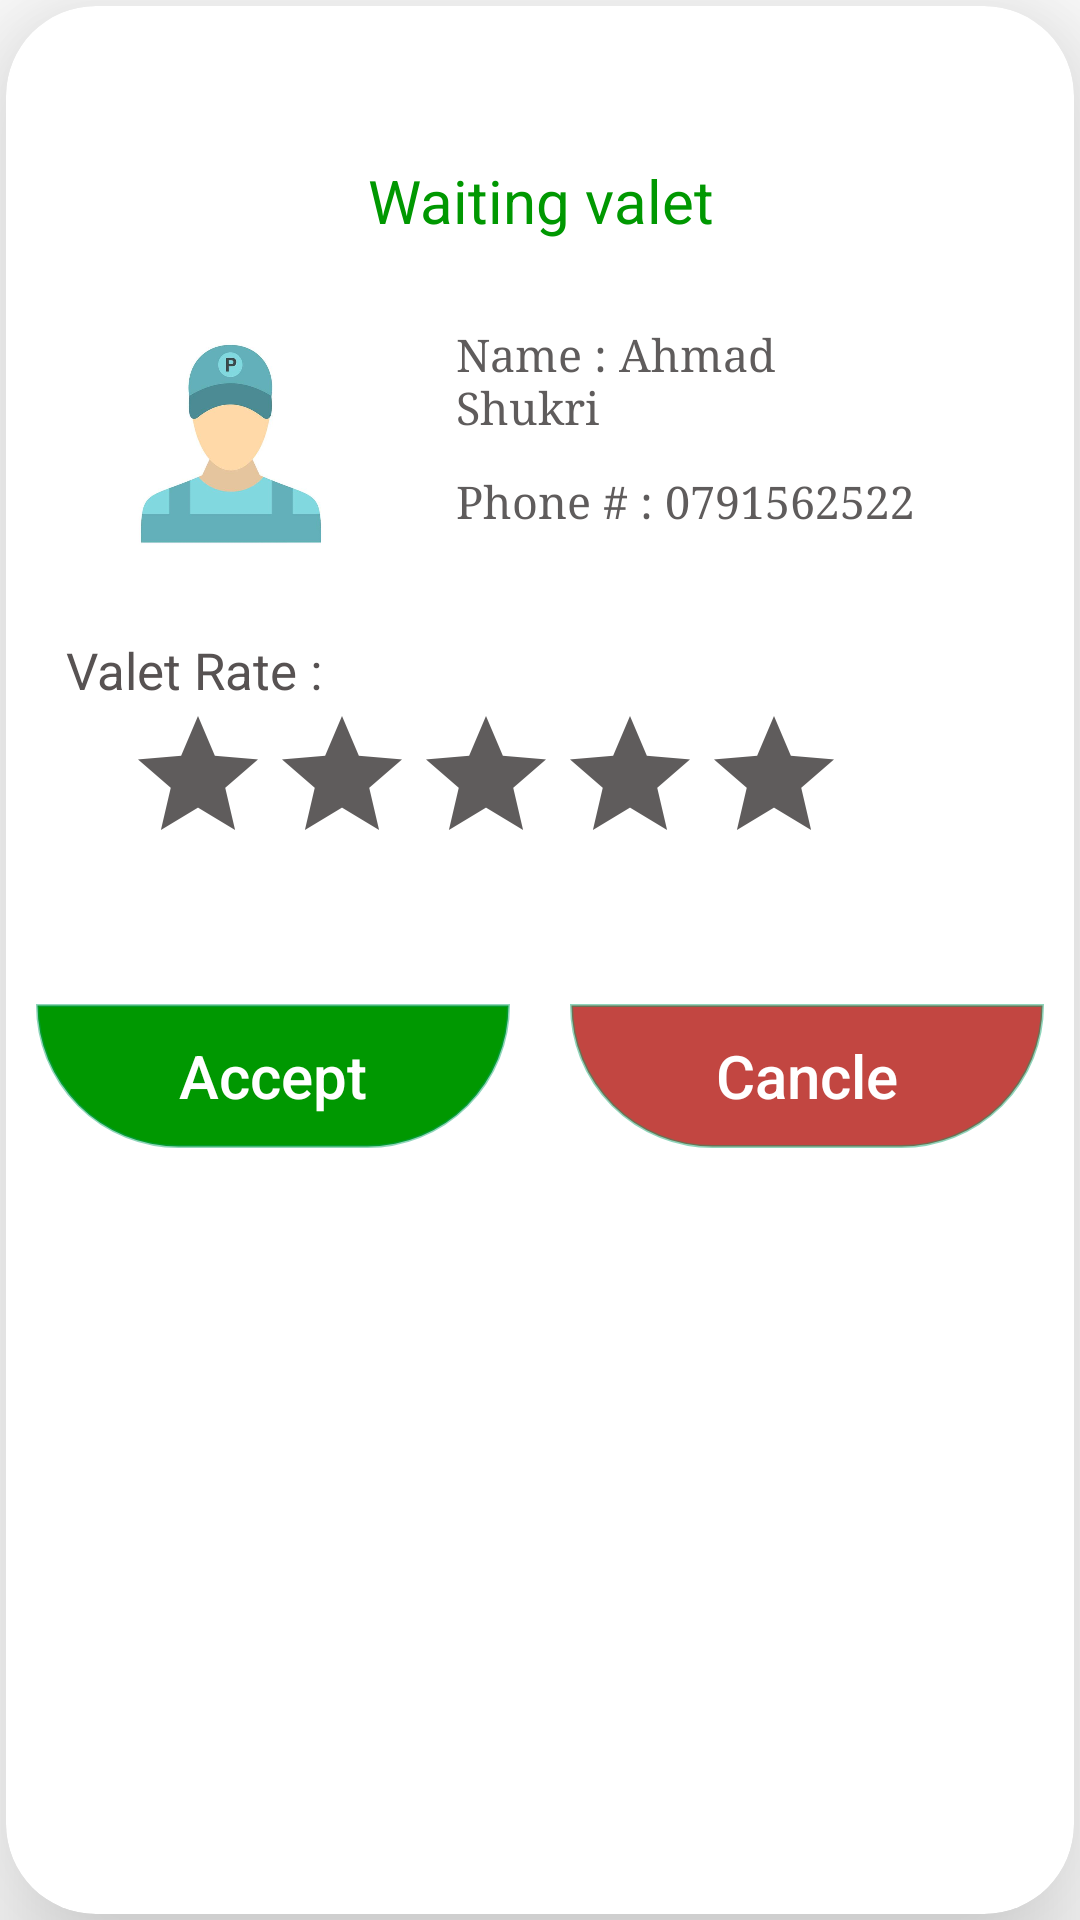

Locate icon controls on the screen. Image size 1080x1920, boxes as (x1, y1, x2, y2).
valet man: (141, 345, 321, 543)
